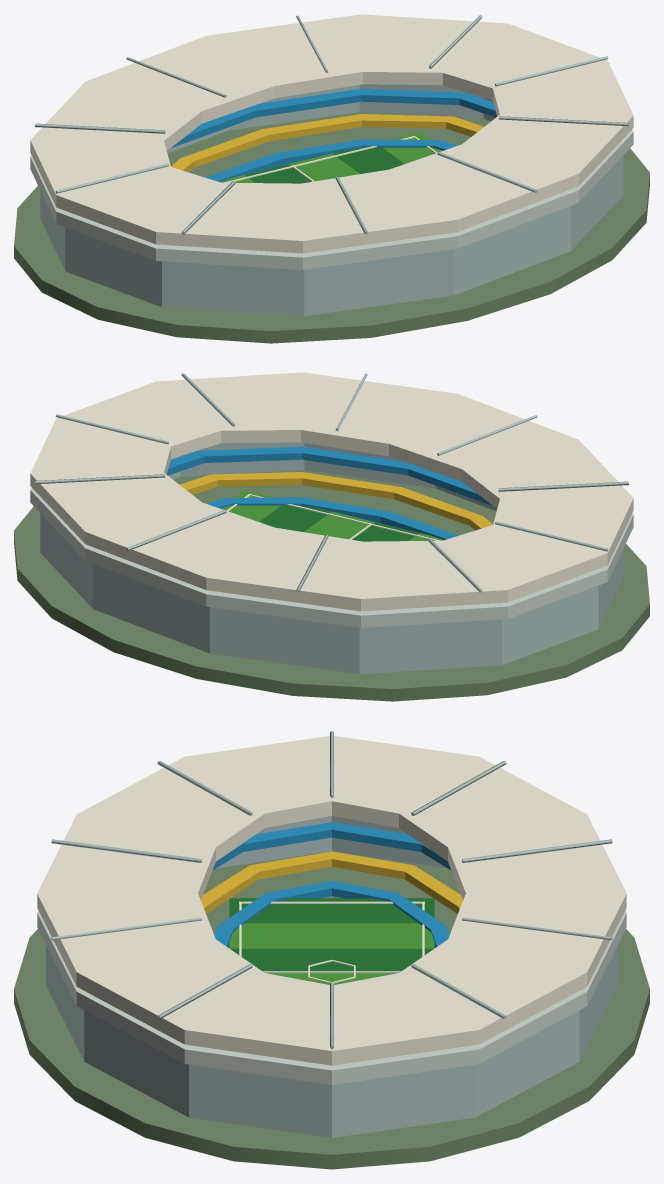
The model's file is maracana.glb.
3 renders of one model, top to bottom at view 1: azimuth 30°, elevation 25°; view 2: azimuth 150°, elevation 25°; view 3: azimuth 270°, elevation 25°, orthographic. The views are drawn at different scales.
Parts seen in each view (by area): view 1: roof_DDE2D6, outer_bowl_BEC7B9, base_A2B19A, rim_D7DDCE, seating_799D9C, seating_A1B8B1, roof_ribs_B4C2B7, pitch_507F40, pitch_60924D, pitch_lines_DFE4C7; view 2: roof_DDE2D6, outer_bowl_BEC7B9, base_A2B19A, rim_D7DDCE, seating_799D9C, seating_A1B8B1, roof_ribs_B4C2B7, pitch_507F40, pitch_60924D, pitch_lines_DFE4C7; view 3: roof_DDE2D6, base_A2B19A, outer_bowl_BEC7B9, rim_D7DDCE, pitch_507F40, seating_799D9C, pitch_60924D, roof_ribs_B4C2B7, seating_A1B8B1, pitch_lines_DFE4C7.
Part boxes in pixels (bbox=[...]): roof_DDE2D6: bbox=[30, 14, 633, 253]; outer_bowl_BEC7B9: bbox=[40, 84, 623, 316]; base_A2B19A: bbox=[14, 112, 649, 343]; rim_D7DDCE: bbox=[30, 129, 633, 269]; seating_799D9C: bbox=[167, 88, 496, 181]; seating_A1B8B1: bbox=[171, 114, 483, 172]; roof_ribs_B4C2B7: bbox=[35, 15, 628, 234]; pitch_507F40: bbox=[245, 147, 404, 183]; pitch_60924D: bbox=[220, 132, 442, 182]; pitch_lines_DFE4C7: bbox=[224, 136, 437, 182]; roof_DDE2D6: bbox=[30, 372, 633, 611]; outer_bowl_BEC7B9: bbox=[40, 442, 623, 674]; base_A2B19A: bbox=[14, 470, 649, 701]; rim_D7DDCE: bbox=[30, 487, 633, 627]; seating_799D9C: bbox=[167, 446, 496, 539]; seating_A1B8B1: bbox=[180, 472, 492, 530]; roof_ribs_B4C2B7: bbox=[35, 373, 628, 592]; pitch_507F40: bbox=[259, 505, 418, 541]; pitch_60924D: bbox=[221, 490, 443, 540]; pitch_lines_DFE4C7: bbox=[226, 494, 439, 540]; roof_DDE2D6: bbox=[37, 736, 626, 1065]; base_A2B19A: bbox=[14, 851, 649, 1169]; outer_bowl_BEC7B9: bbox=[46, 816, 617, 1137]; rim_D7DDCE: bbox=[37, 910, 626, 1084]; pitch_507F40: bbox=[229, 898, 434, 973]; seating_799D9C: bbox=[213, 822, 450, 947]; pitch_60924D: bbox=[229, 923, 434, 984]; roof_ribs_B4C2B7: bbox=[51, 731, 612, 1049]; seating_A1B8B1: bbox=[201, 851, 462, 913]; pitch_lines_DFE4C7: bbox=[239, 901, 424, 983].
Size of the model in its own units: 1 by 0.1618 by 0.8091.
